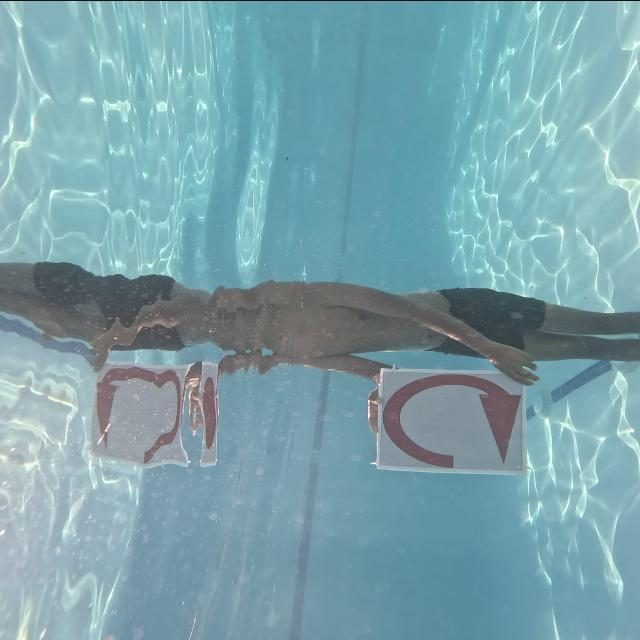red_side: (370, 364, 532, 479)
